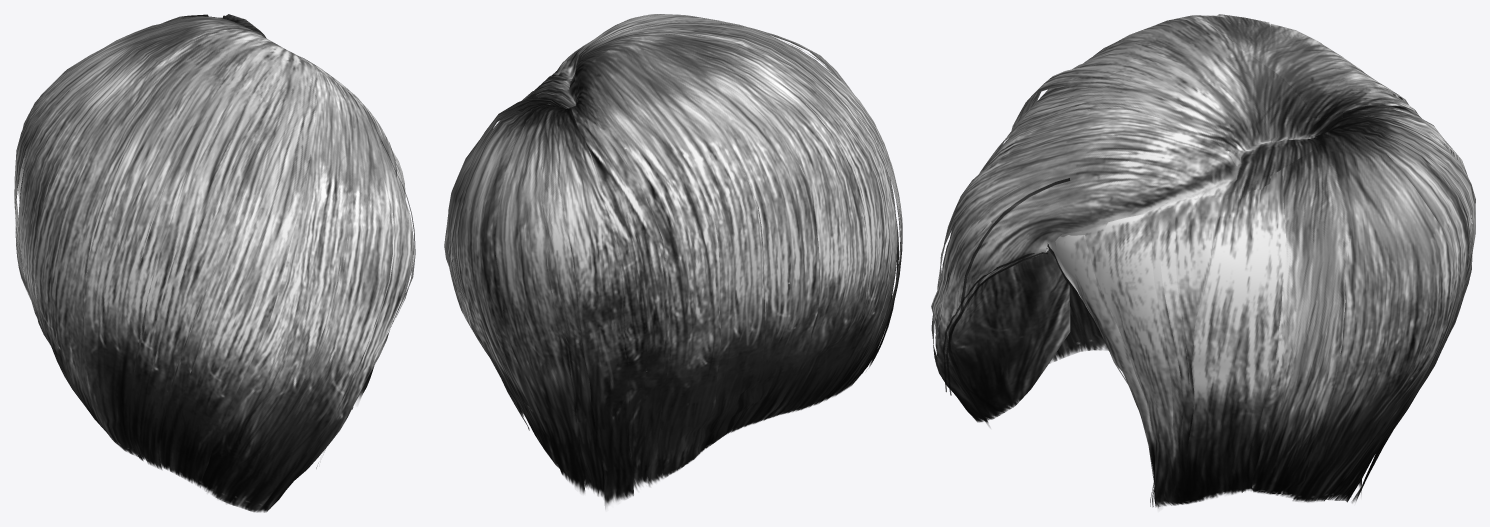
File: hair_bob01.gltf
The picture shows the model from 3 angles, left to right: view 1: azimuth 30°, elevation 25°; view 2: azimuth 150°, elevation 25°; view 3: azimuth 270°, elevation 25°; orthographic projection. The views are drawn at different scales.
Visible parts, largest first — view 1: hair_bob01; view 2: hair_bob01; view 3: hair_bob01.
Boxes of the visible parts, <box> form: hair_bob01: <box>14,14,415,512</box>; hair_bob01: <box>444,14,902,508</box>; hair_bob01: <box>931,14,1475,508</box>.
Size of the model in its own units: 0.2144 by 0.2407 by 0.2584.
Materials: 1 (1 with a texture image).
